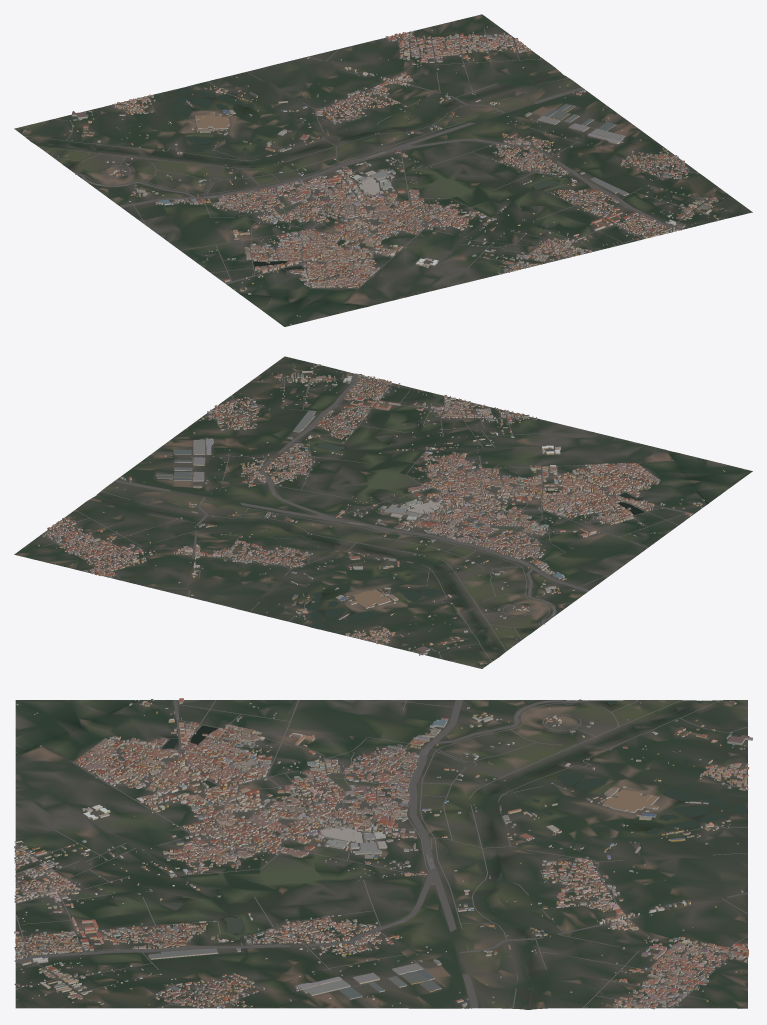
3 renders of one model, top to bottom at view 1: azimuth 30°, elevation 25°; view 2: azimuth 150°, elevation 25°; view 3: azimuth 270°, elevation 25°, orthographic. The views are drawn at different scales.
Visible parts, largest first — view 1: ground, buildings, roads, water; view 2: ground, buildings, roads, water; view 3: ground, buildings, roads, water.
Part boxes in pixels (left/top/right/bottom): ground: left=14, top=14, right=752, bottom=326; buildings: left=22, top=26, right=731, bottom=324; roads: left=24, top=28, right=721, bottom=288; water: left=30, top=74, right=594, bottom=307; ground: left=14, top=356, right=752, bottom=668; buildings: left=38, top=363, right=745, bottom=664; roads: left=42, top=364, right=694, bottom=661; water: left=96, top=397, right=707, bottom=657; ground: left=15, top=700, right=747, bottom=1009; buildings: left=14, top=698, right=752, bottom=1009; roads: left=14, top=699, right=747, bottom=1008; water: left=16, top=700, right=747, bottom=1008.
Size of the model in its own units: 2813 by 31.09 by 2830.
